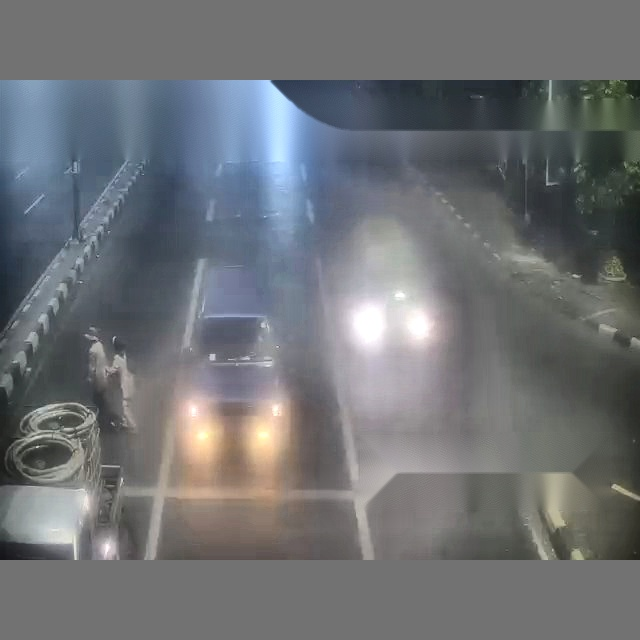Mobil: (1, 402, 102, 557)
